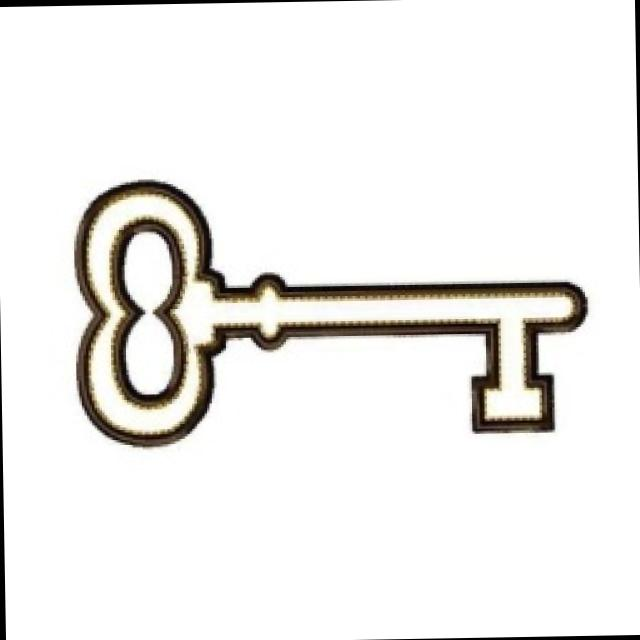anahtar: (58, 160, 614, 452)
